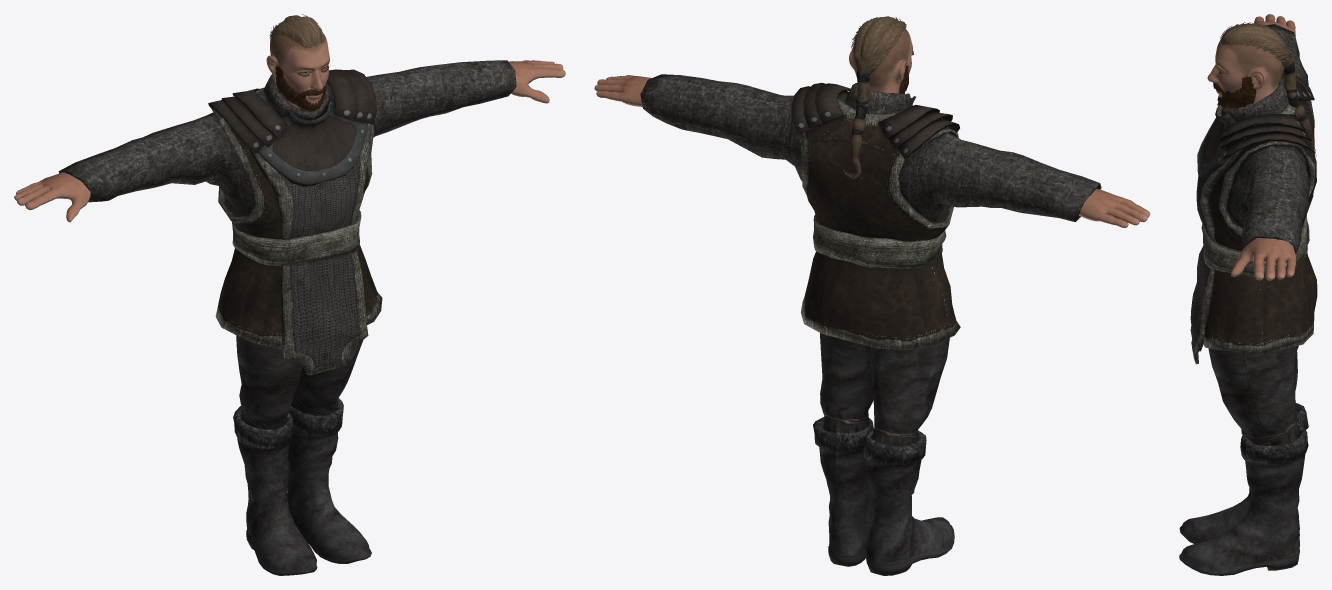
File: Viking 1 NH.obj
3 renders of one model, left to right at view 1: azimuth 30°, elevation 25°; view 2: azimuth 150°, elevation 25°; view 3: azimuth 270°, elevation 25°, orthographic.
Visible parts, largest first — view 1: Tops, Shoes, Bottoms, Body, Hair; view 2: Tops, Shoes, Bottoms, Body, Hair; view 3: Tops, Shoes, Bottoms, Body, Hair, Beards.
Part boxes in pixels (left/top/right/bottom): Tops: left=58, top=60, right=516, bottom=375; Shoes: left=233, top=398, right=371, bottom=575; Bottoms: left=236, top=335, right=363, bottom=429; Body: left=14, top=28, right=565, bottom=222; Hair: left=269, top=14, right=324, bottom=47; Tops: left=640, top=74, right=1101, bottom=349; Shoes: left=813, top=417, right=954, bottom=575; Bottoms: left=820, top=333, right=949, bottom=446; Body: left=594, top=28, right=1150, bottom=227; Hair: left=842, top=16, right=906, bottom=179; Tops: left=1190, top=24, right=1317, bottom=364; Shoes: left=1179, top=403, right=1308, bottom=575; Bottoms: left=1208, top=345, right=1299, bottom=445; Body: left=1207, top=14, right=1295, bottom=280; Hair: left=1220, top=22, right=1316, bottom=156; Beards: left=1217, top=75, right=1256, bottom=108.
Bounding box in the file's own units: 192 × 178 × 42.33.
7 materials, 7 textured.
